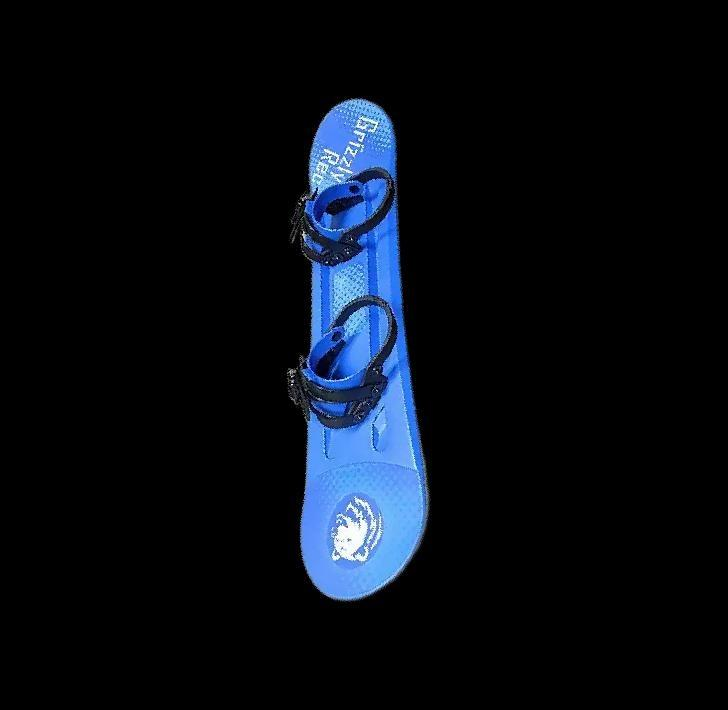Snowboard: (287, 96, 429, 601)
